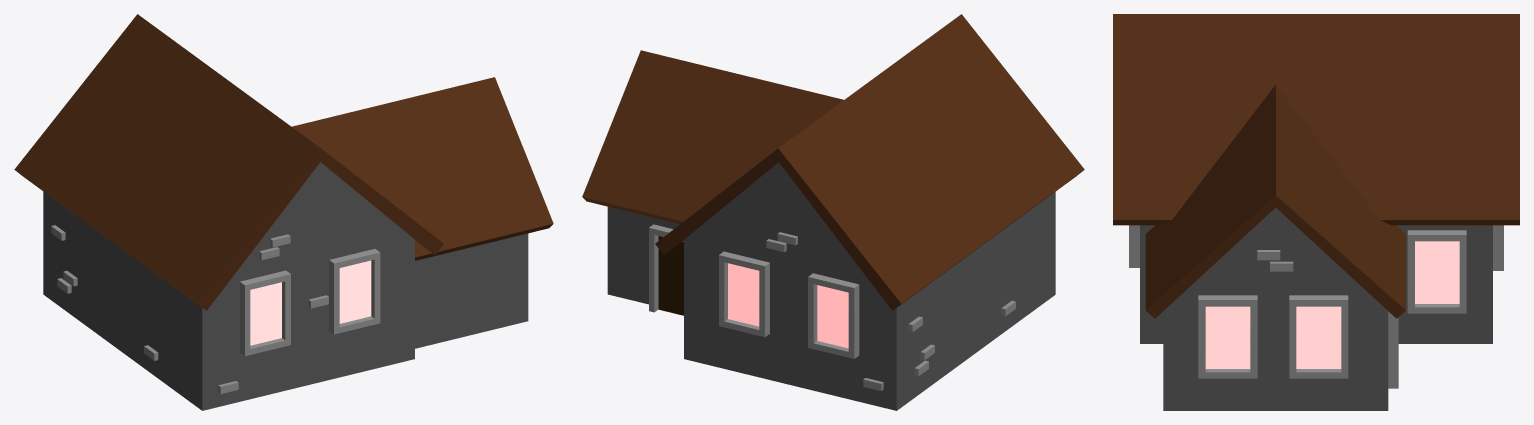
Rendered from Build_3.fbx.
3 views of the same model, side by side, from view 1: azimuth 30°, elevation 25°; view 2: azimuth 150°, elevation 25°; view 3: azimuth 270°, elevation 25° (orthographic). The views are drawn at different scales.
Parts seen in each view (by area): view 1: No_Madness.011; view 2: No_Madness.011; view 3: No_Madness.011.
Boxes of the visible parts, left/top/right/bottom form: No_Madness.011: left=14, top=14, right=553, bottom=410; No_Madness.011: left=582, top=14, right=1084, bottom=410; No_Madness.011: left=1113, top=14, right=1519, bottom=410.
Bounding box in the file's own units: 4.56 × 2.92 × 3.91.
